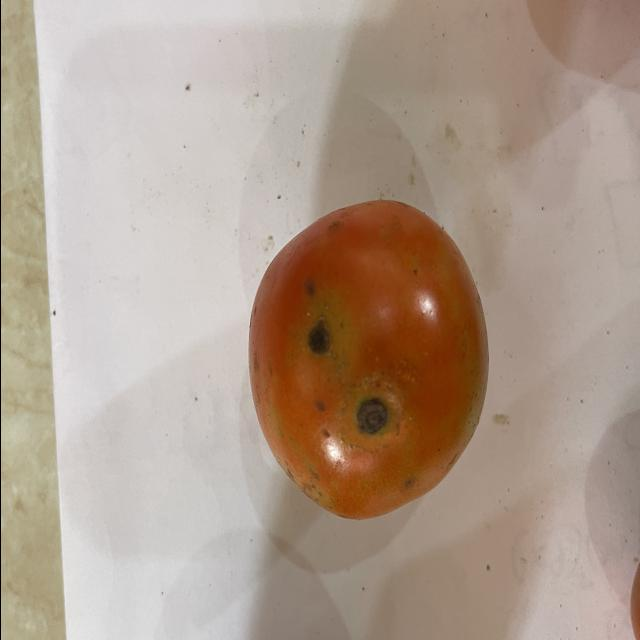fruitworm_bore: (351, 391, 393, 438), (302, 320, 336, 354)
